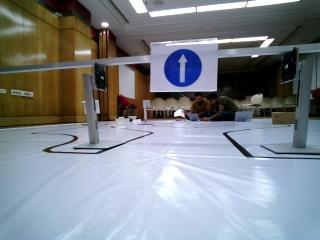straight: (151, 42, 220, 89)
